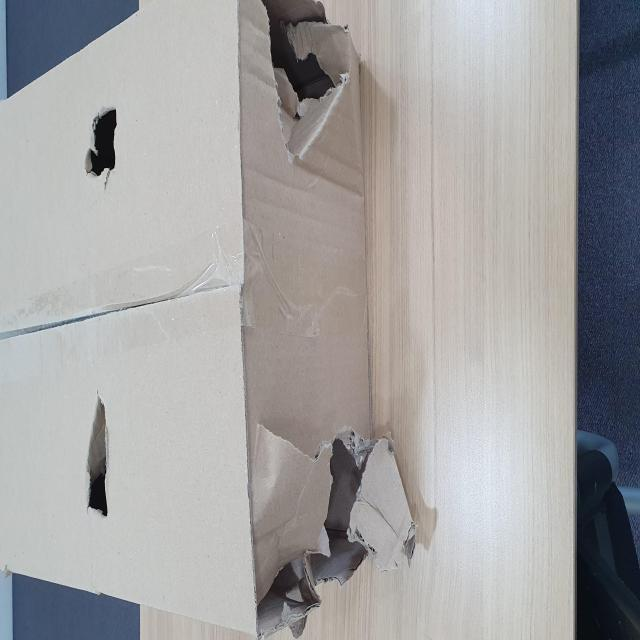damaged: (7, 458, 131, 640), (268, 450, 360, 620), (67, 141, 143, 220), (251, 148, 302, 216)
